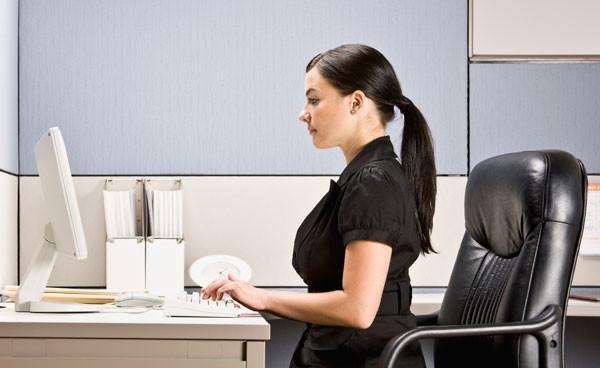Good Sitting Posture: (199, 42, 439, 366)
